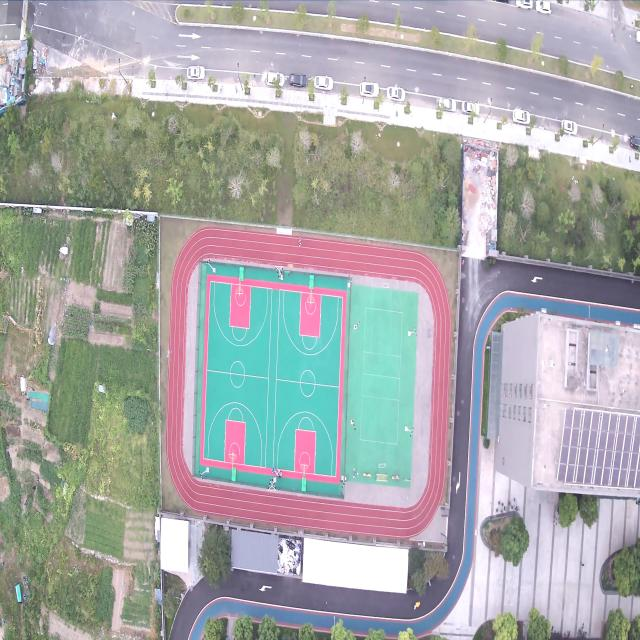UAV: (165, 349, 172, 360)
